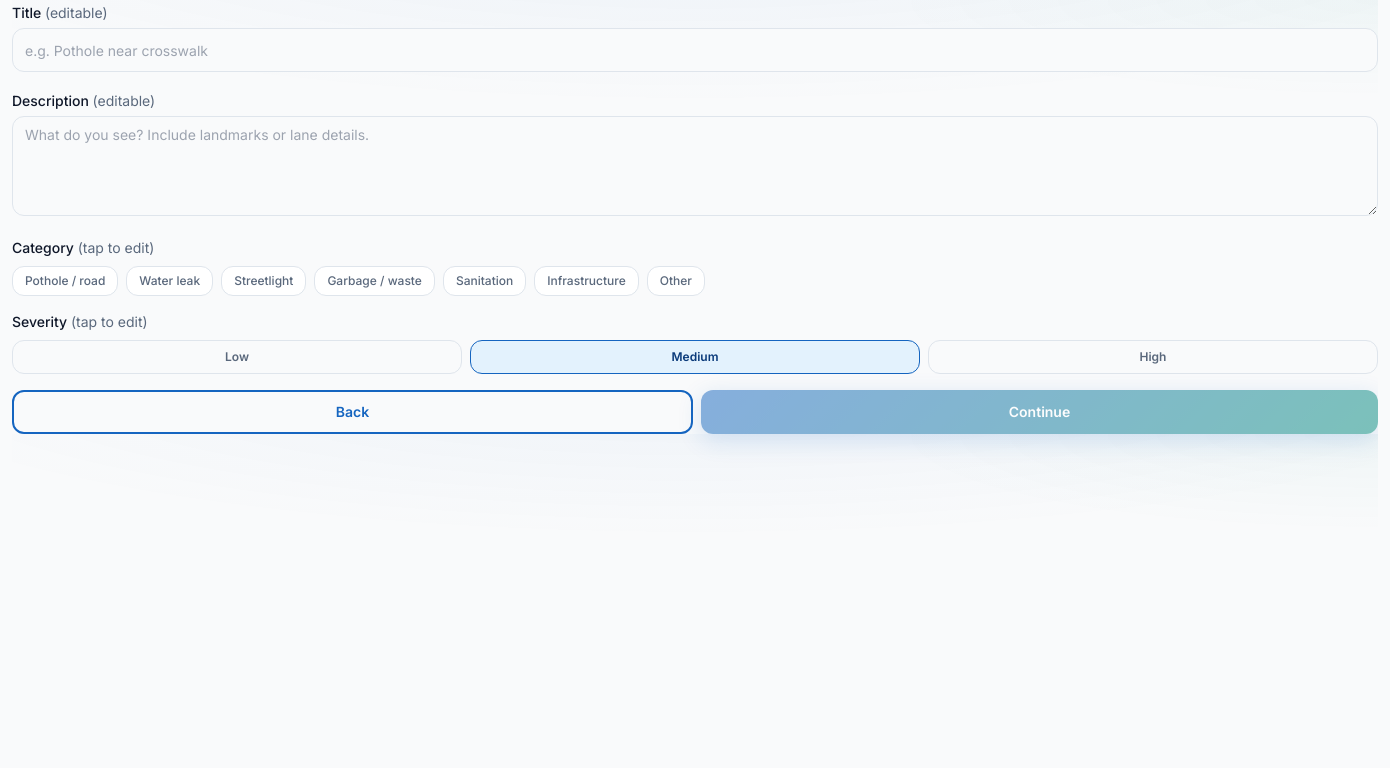
ReportDetailsStep › C33: AI suggestion placeholder
Type "Large pothole on the main road near school." into the text box with test id "report-description-input" at {"x": 695, "y": 166}, box [12, 116, 1378, 216]
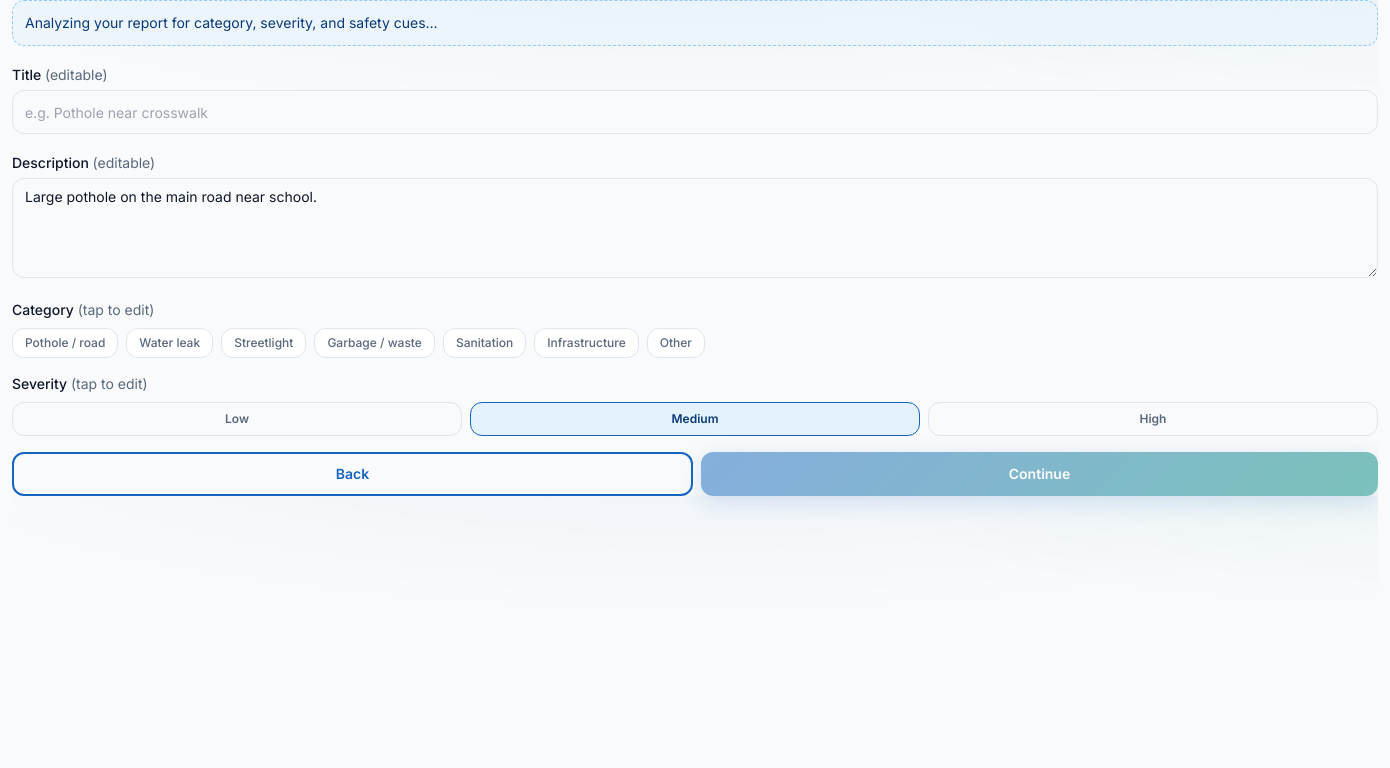
Expected: the text with test id "ai-suggestion-placeholder" is shown, [12, 0, 1378, 46]
